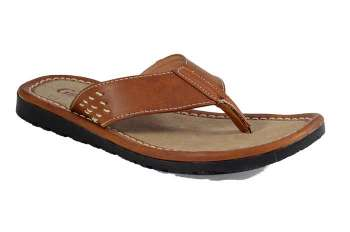Footwear: (16, 52, 327, 177)
